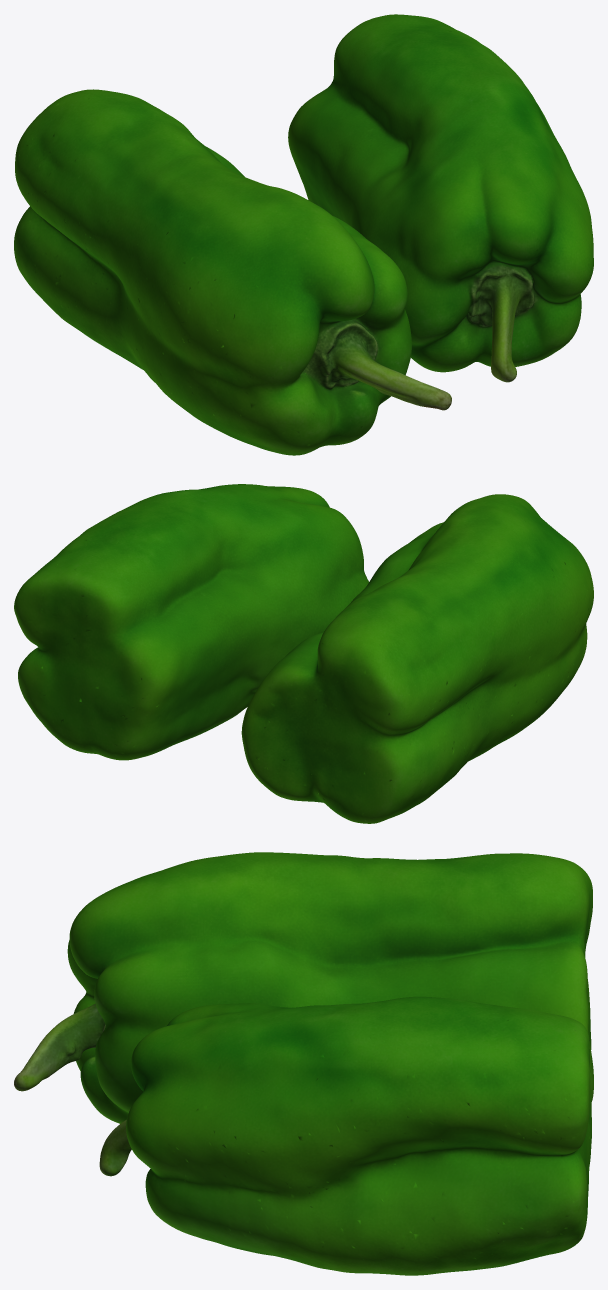
Rendered from chiltoma.glb.
3 renders of one model, top to bottom at view 1: azimuth 30°, elevation 25°; view 2: azimuth 150°, elevation 25°; view 3: azimuth 270°, elevation 25°, orthographic. The views are drawn at different scales.
Parts seen in each view (by area): view 1: world; view 2: world; view 3: world.
Boxes of the visible parts, x1,y1,x2,y2 form: world: (14,14,593,455); world: (14,484,593,823); world: (14,852,593,1275).
Size of the model in its own units: 0.9667 by 0.4918 by 1.
Materials: 1 (1 with a texture image).
